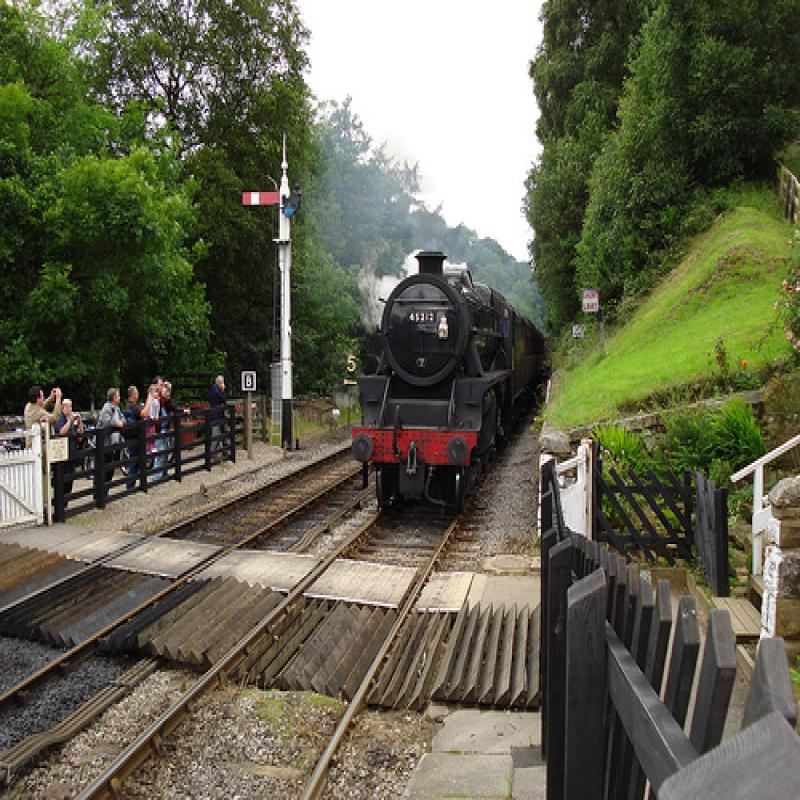train: (348, 246, 550, 528)
